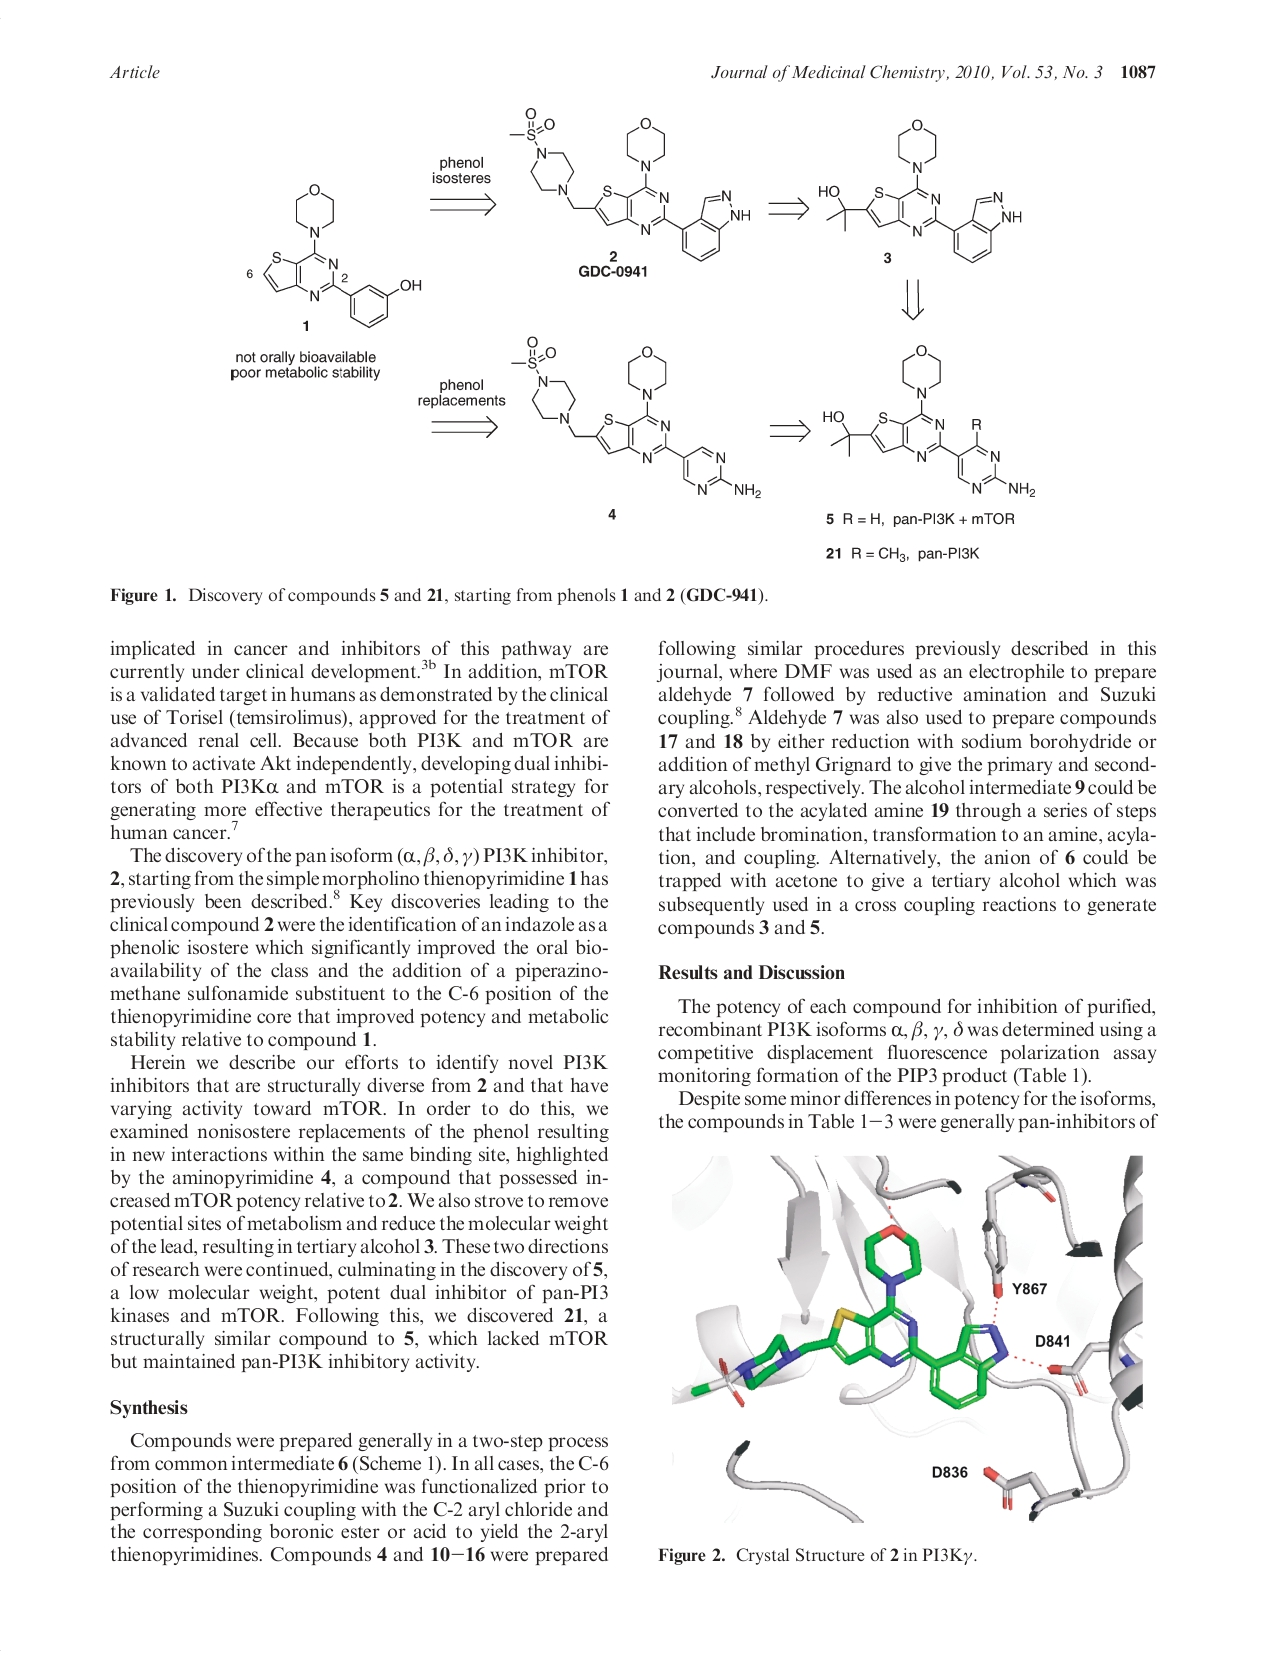exist_molecular: (509, 332, 765, 503), (509, 106, 753, 265), (821, 344, 1039, 501), (817, 118, 1024, 265), (263, 182, 424, 330)
